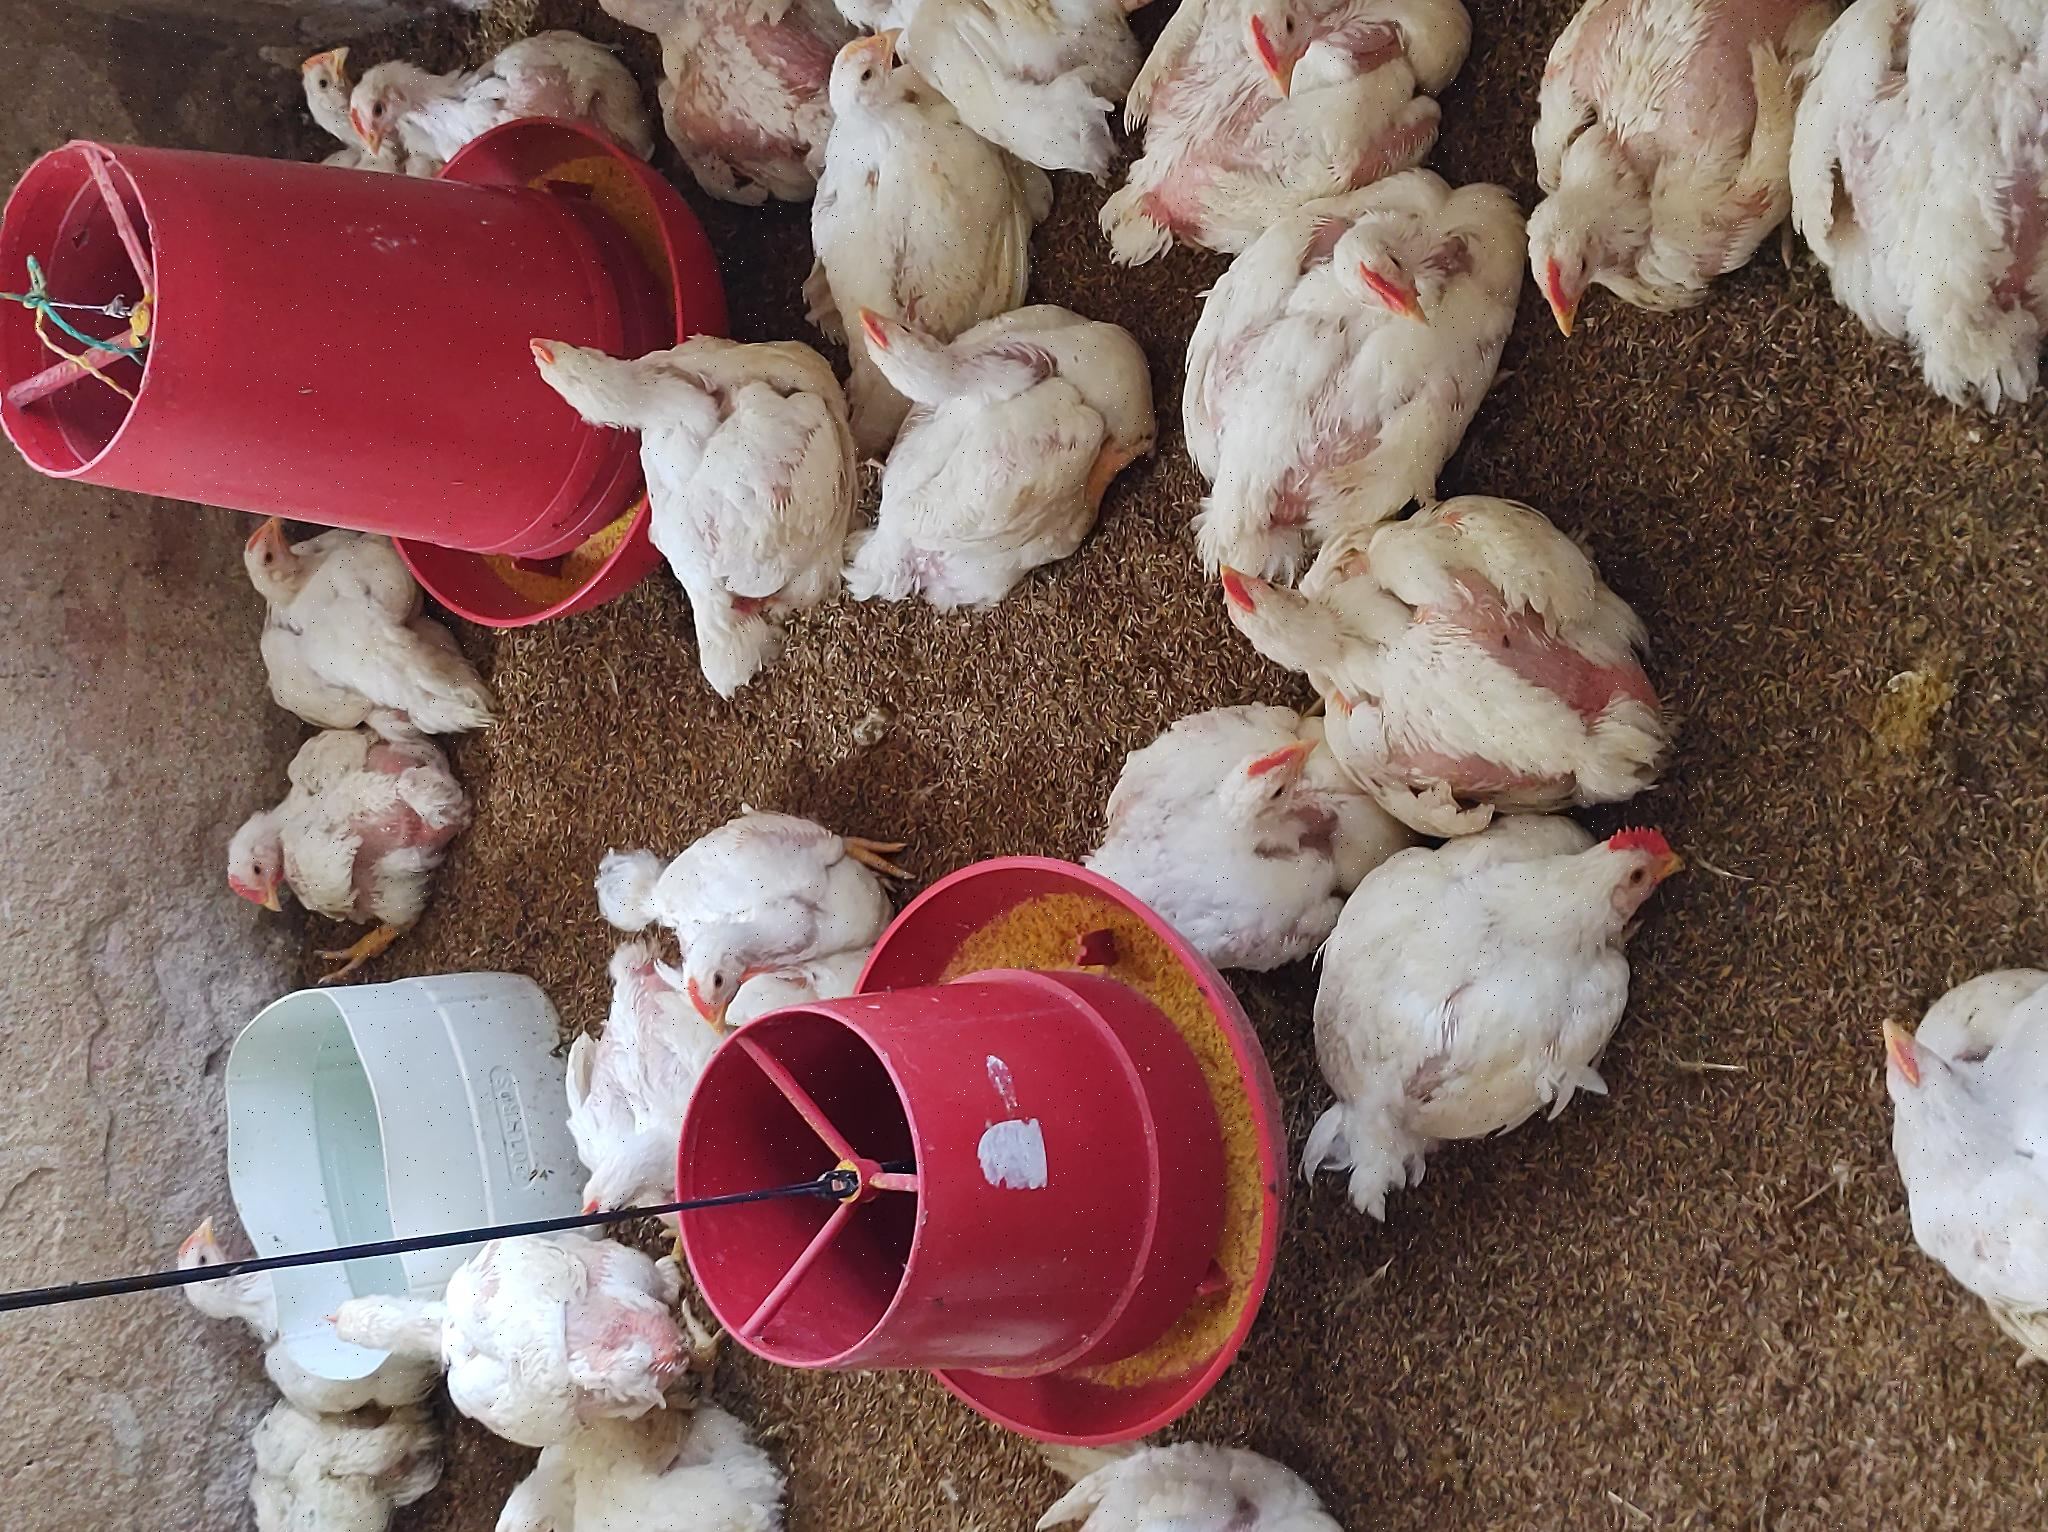Pollos: (853, 513, 1231, 850), (1015, 1173, 1356, 1522), (331, 1231, 708, 1532), (915, 855, 1247, 1168), (1284, 1065, 1533, 1464), (722, 1234, 1054, 1532), (803, 200, 1113, 486), (80, 323, 290, 710), (570, 1085, 857, 1353), (520, 558, 750, 895), (1252, 755, 1512, 1015), (1297, 333, 1520, 629), (314, 496, 579, 742), (597, 188, 808, 467), (2, 483, 166, 805), (1364, 864, 1535, 1115), (2, 1044, 111, 1371), (134, 145, 339, 315), (1392, 266, 1503, 364)
